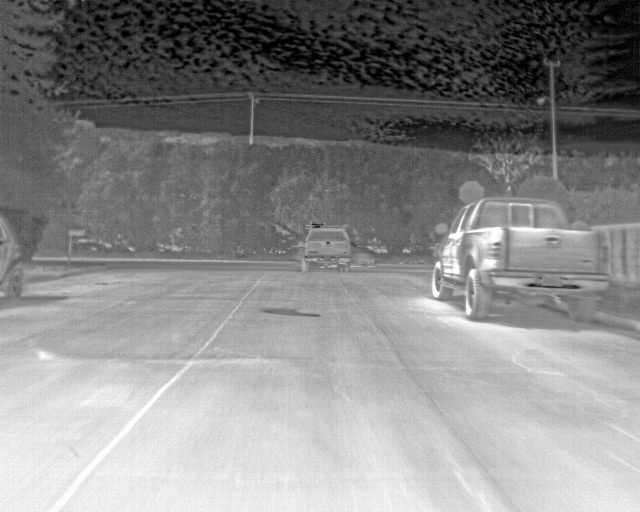vehicle: (431, 187, 609, 323), (302, 226, 352, 274)
